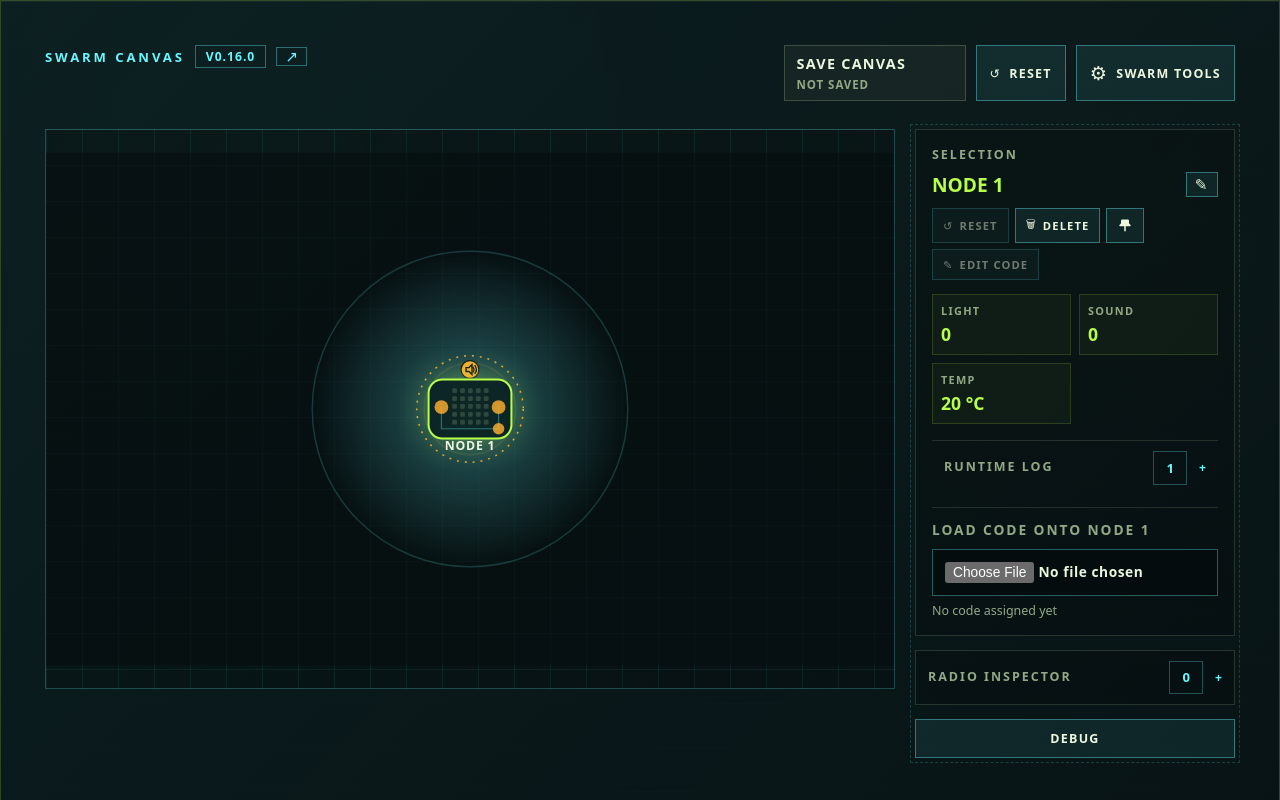
Test: SwarmCanvasPanel › logs sound start once for bursty runtime sound events
Click the heading "Runtime log 1": coordinates (999, 467) [944, 451, 1187, 485]
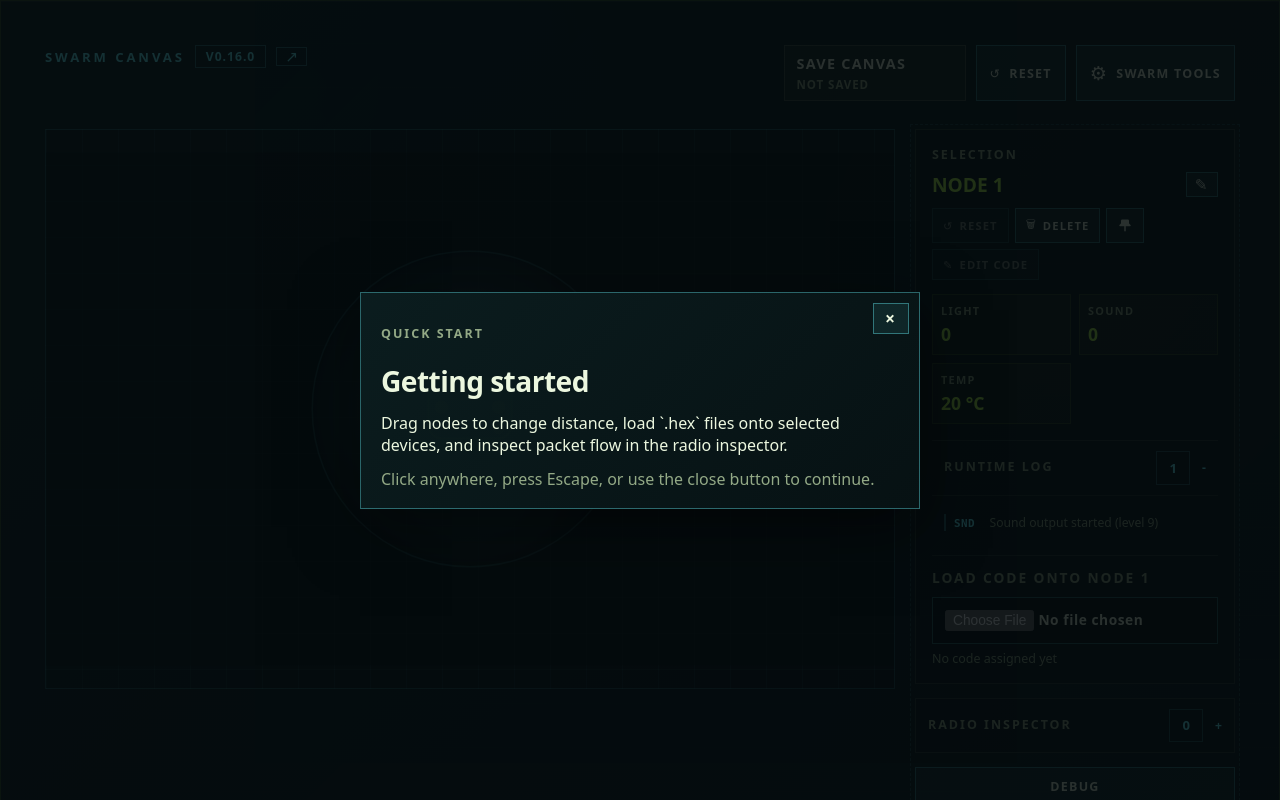
Check: the text "Sound output started (level 9)" is shown once, box [990, 514, 1158, 531]
Check: the text with class "device-log__type" reads "snd", box [954, 517, 975, 530]
